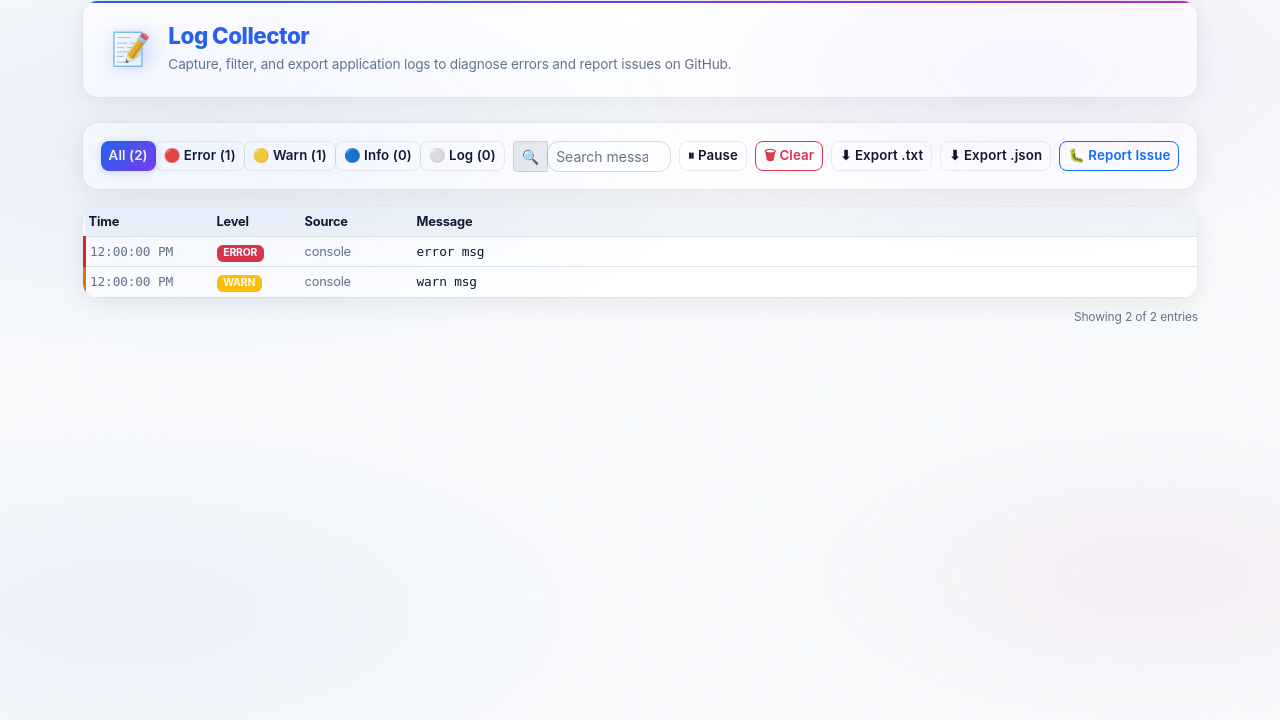
Test case: LogCollector Component › filters entries by level when level button is clicked
This screenshot has width=1280, height=720.
Click the button with aria-label "show error logs" at (200, 156), box [155, 141, 245, 171]
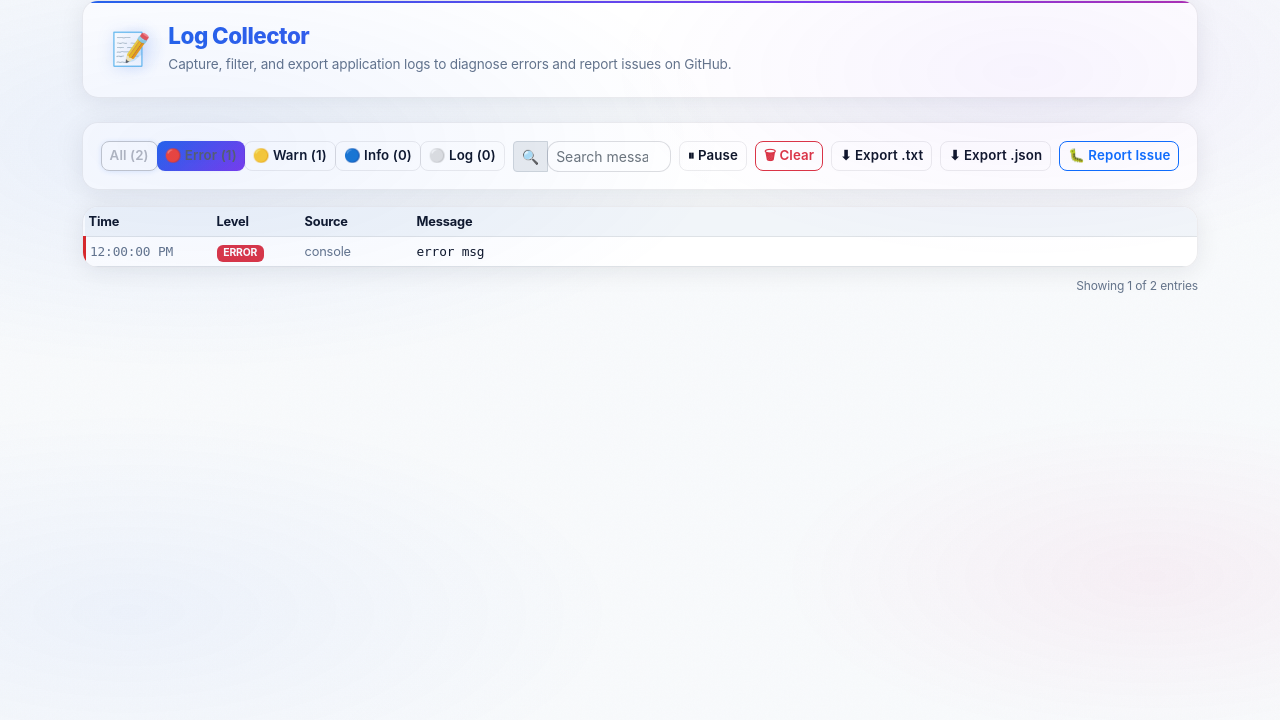
Expected: the text "error msg" is shown, [412, 237, 1197, 267]
Result: the text "warn msg" is gone
